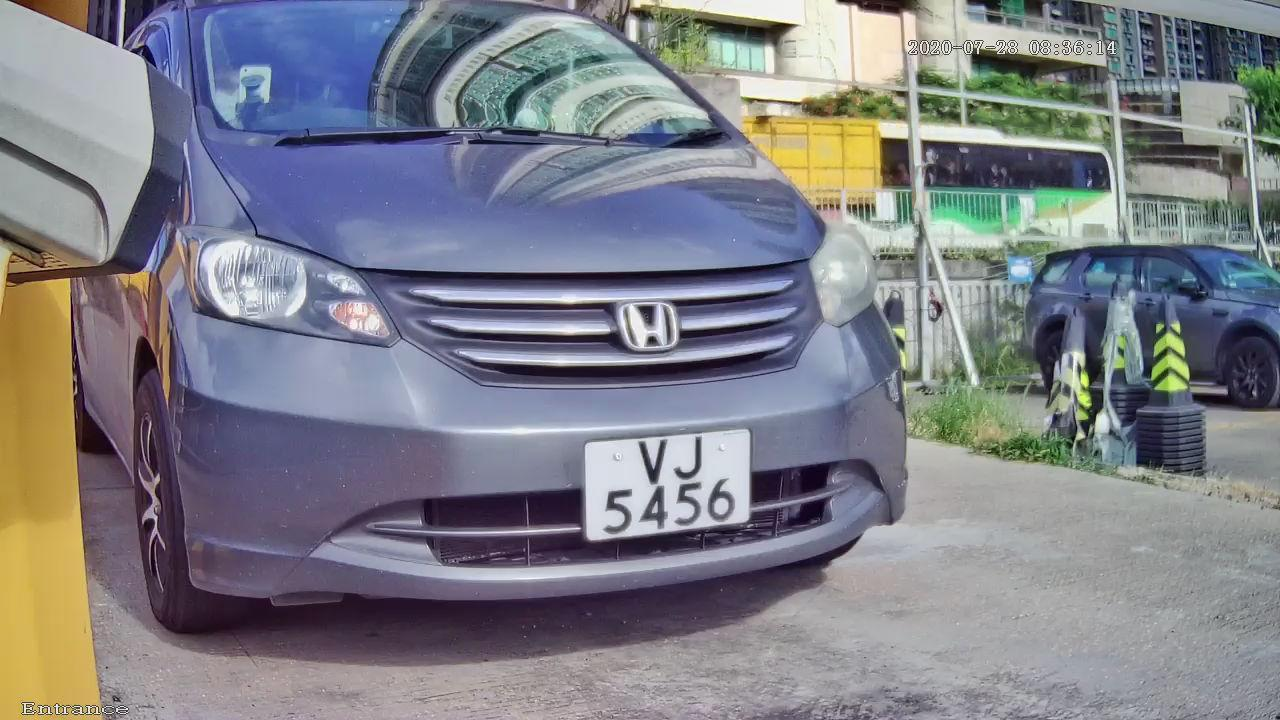privatecar: (12, 17, 1023, 659)
